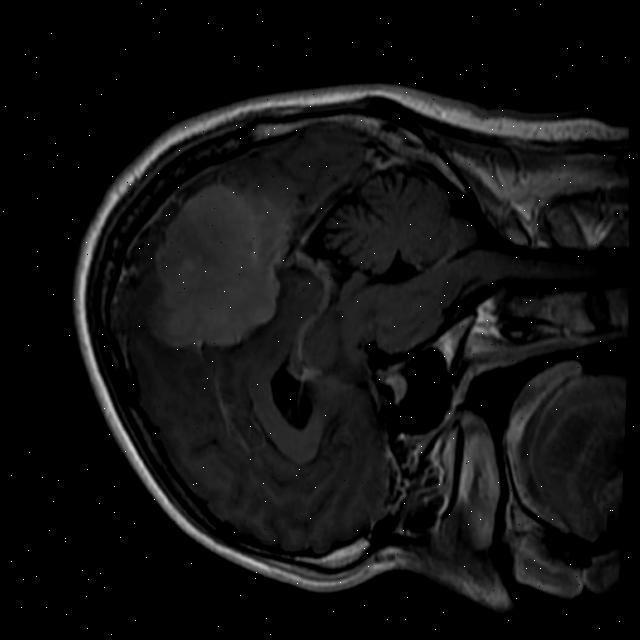Meningioma: (138, 173, 297, 356)
